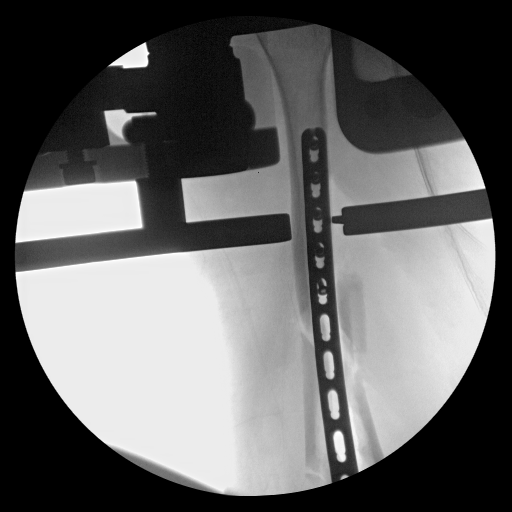implant: (300, 127, 355, 471)
